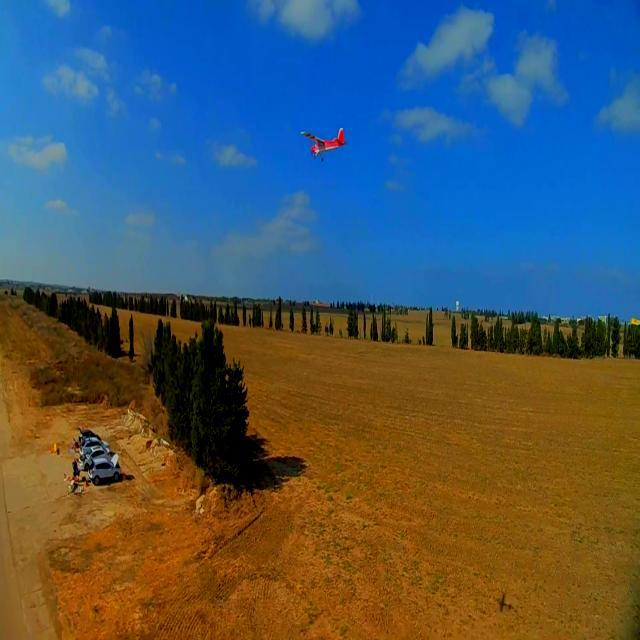iha: (299, 124, 353, 163)
